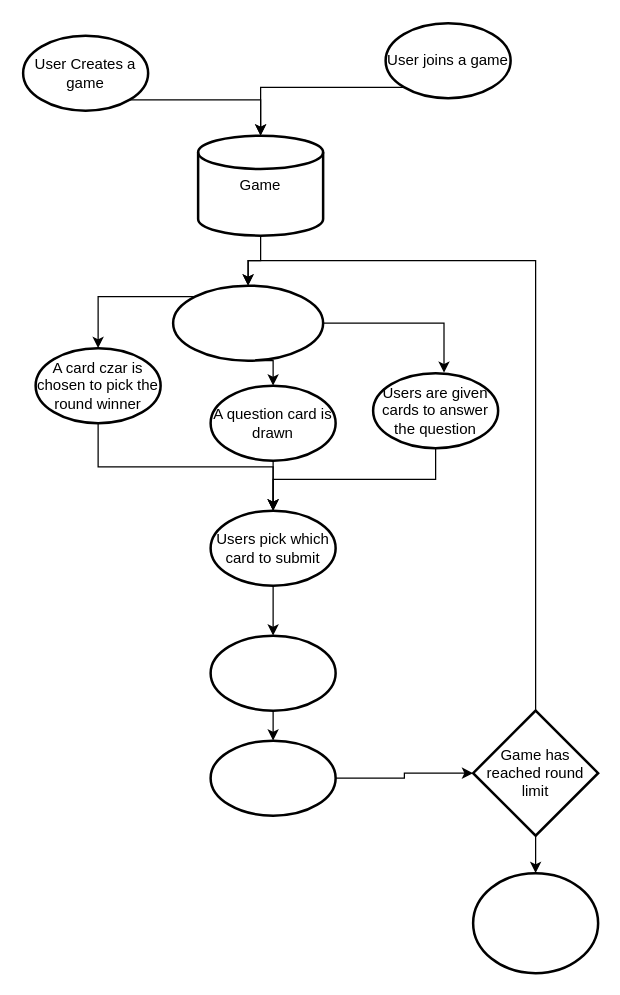
The diagram is 620 pixels wide and 995 high, and some of its shapes have lost their labels. Here are the shapes that lost their labels. From the top down, the centre of each, then its label:
At point 247,322: "Game creator starts the round".
At point 272,672: "The card czar votes on the best answer".
At point 272,777: "User that won is awarded points".
At point 535,922: "Results are displayed. User with the most points wins".
